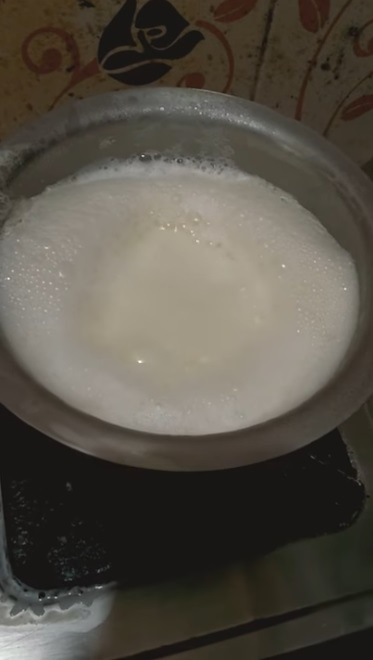Boiled: (7, 115, 365, 447)
